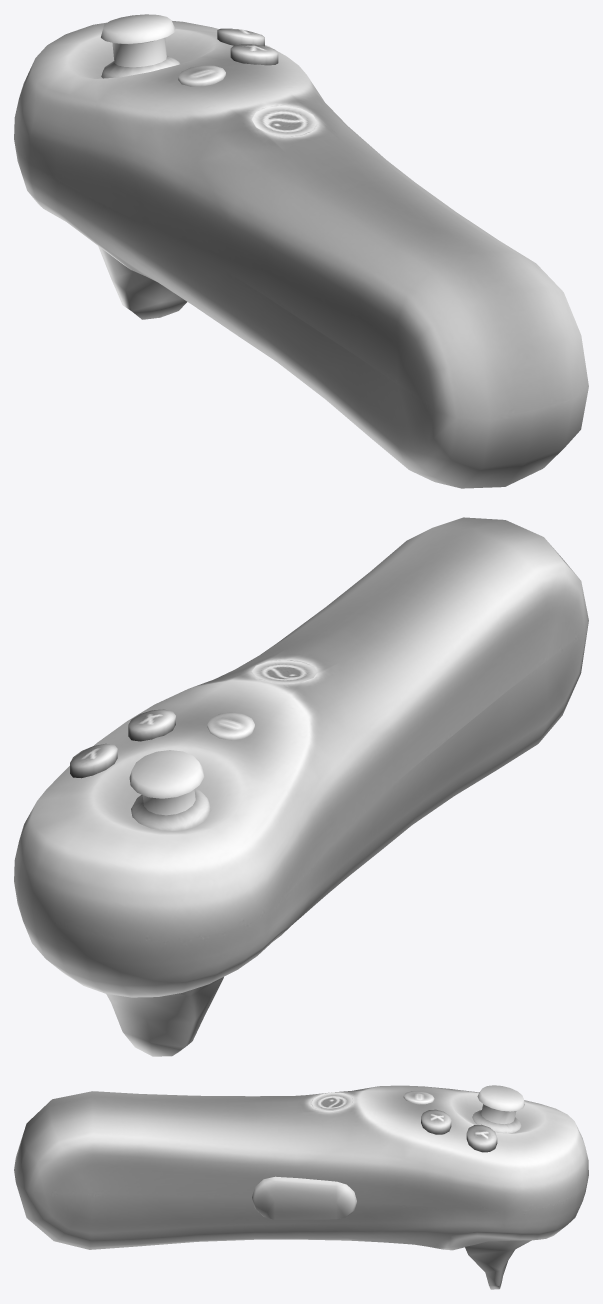
The model's file is left.glb.
The picture shows the model from 3 angles, top to bottom: view 1: azimuth 30°, elevation 25°; view 2: azimuth 150°, elevation 25°; view 3: azimuth 270°, elevation 25°; orthographic projection. The views are drawn at different scales.
Visible parts, largest first — view 1: controller, thumbstick, trigger, system, x_button, menu, y_button; view 2: controller, thumbstick, trigger, x_button, y_button, system, menu; view 3: controller, squeeze, thumbstick, trigger, y_button, x_button, system, menu.
Part boxes in pixels (box(x1,y1,x2,y2)): controller: box(14, 21, 588, 488); thumbstick: box(101, 14, 180, 78); trigger: box(98, 246, 186, 319); system: box(251, 105, 317, 136); x_button: box(230, 44, 278, 65); menu: box(178, 65, 225, 86); y_button: box(217, 28, 264, 46); controller: box(14, 517, 588, 997); thumbstick: box(129, 750, 211, 830); trigger: box(106, 977, 223, 1056); x_button: box(128, 709, 175, 741); y_button: box(70, 743, 117, 778); system: box(251, 660, 317, 683); menu: box(207, 712, 254, 740); controller: box(14, 1085, 588, 1250); squeeze: box(252, 1176, 356, 1219); thumbstick: box(472, 1085, 524, 1133); trigger: box(465, 1240, 531, 1289); y_button: box(466, 1124, 497, 1152); x_button: box(421, 1109, 451, 1134); system: box(311, 1092, 353, 1110); menu: box(403, 1091, 434, 1104).
Bounding box in the file's own units: 0.0467 × 0.0551 × 0.1512.
Materials: 1 (1 with a texture image).
